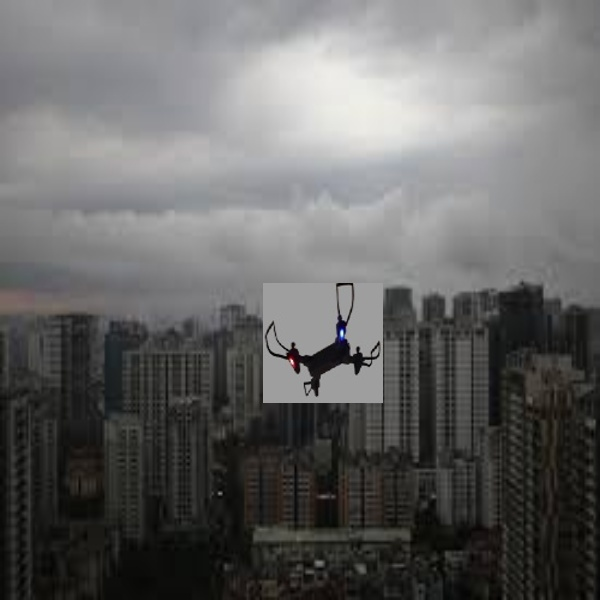drone: (265, 282, 387, 401)
